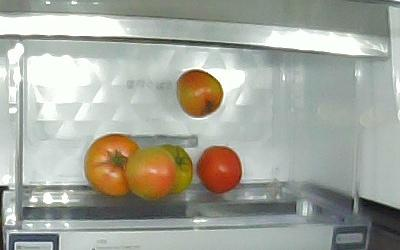tomato: (83, 133, 140, 197), (125, 147, 175, 201), (175, 69, 223, 119), (197, 146, 242, 194), (159, 143, 193, 196)
